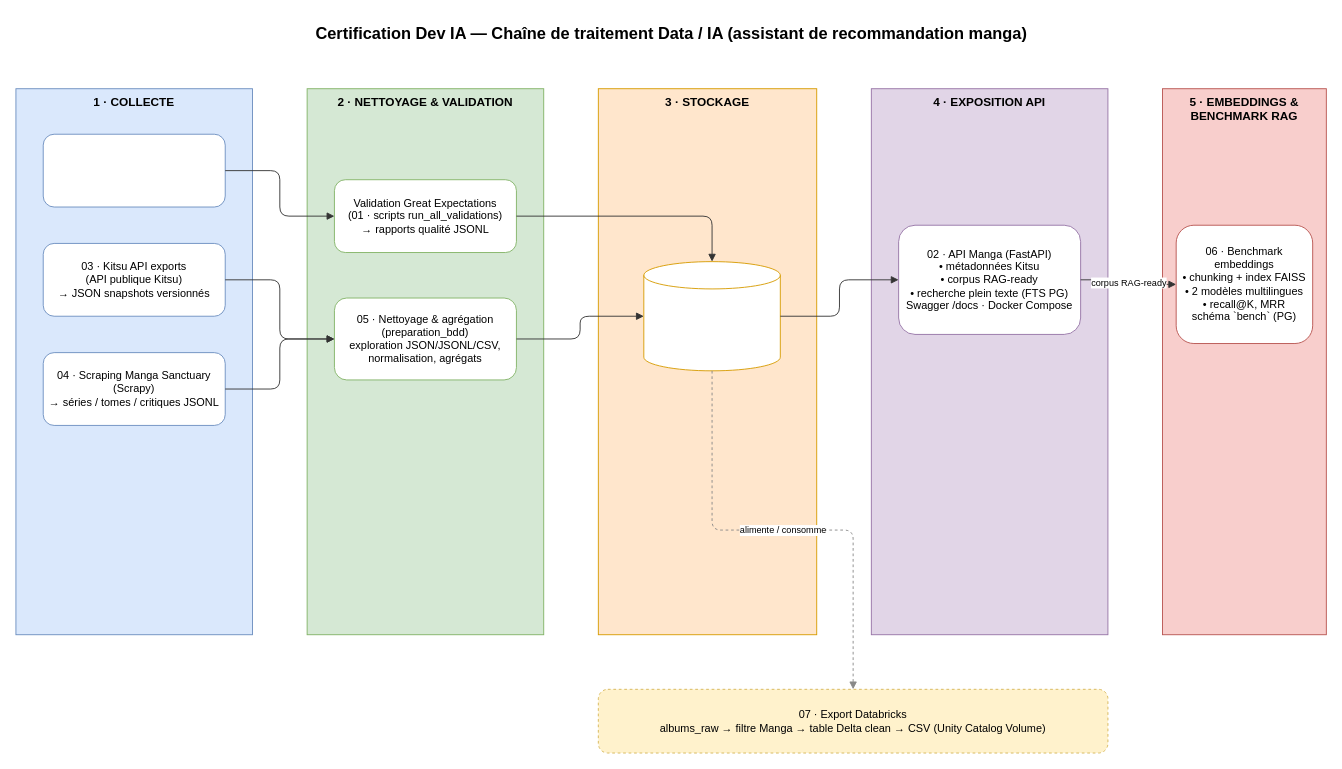
Image size: 1342x769. Some labels were removed from this diagram. The centre of each missing label's shape, as x and y in pixels:
"01 · Scraping Manga-News (Scrapy) → JSONL enrichis" goes at pixel 133 170.
"PostgreSQL schéma `manga` (métadonnées Kitsu, corpus RAG-ready)" goes at pixel 711 316.
